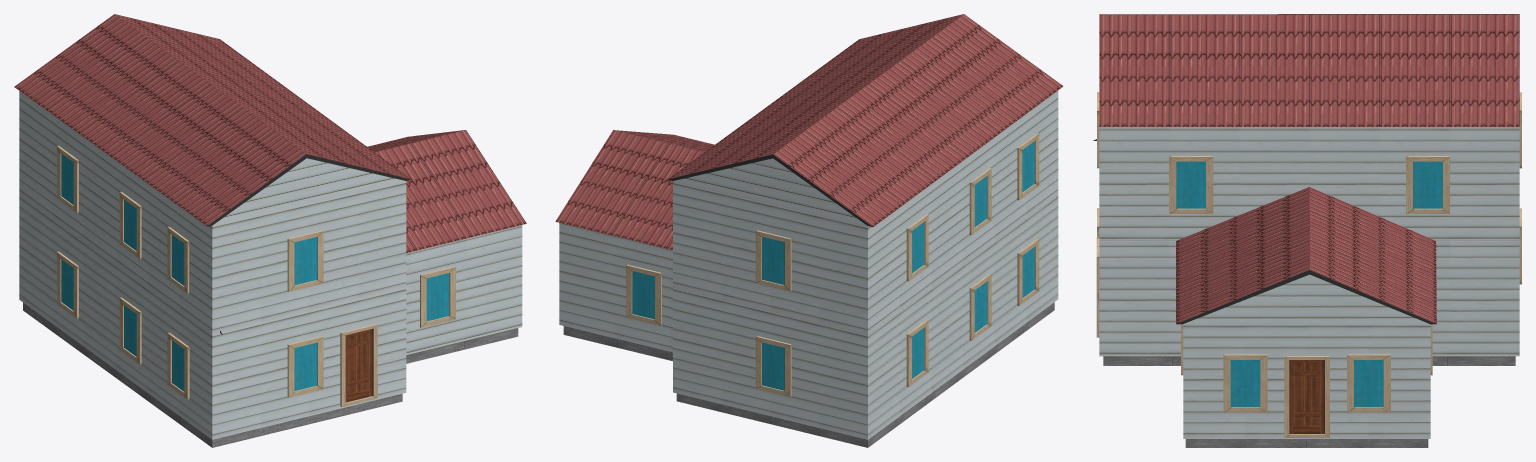
File: Hus6.glb
The picture shows the model from 3 angles, left to right: view 1: azimuth 30°, elevation 25°; view 2: azimuth 150°, elevation 25°; view 3: azimuth 270°, elevation 25°; orthographic projection. The views are drawn at different scales.
Parts seen in each view (by area): view 1: Hus6; view 2: Hus6; view 3: Hus6.
Boxes of the visible parts, x1=… form: Hus6: x1=14, y1=14, x2=526, y2=447; Hus6: x1=555, y1=14, x2=1063, y2=447; Hus6: x1=1093, y1=14, x2=1521, y2=447.
Bounding box in the file's own units: 12.43 × 9.07 × 11.82.
Materials: 1 (1 with a texture image).
